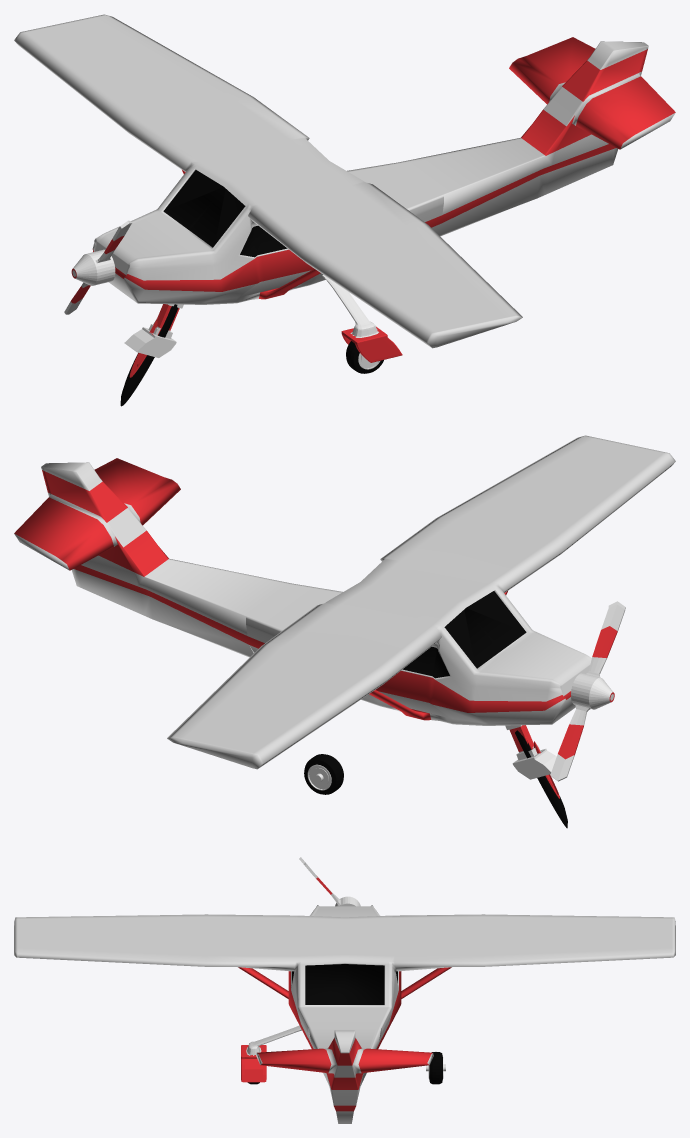
The picture shows the model from 3 angles, top to bottom: view 1: azimuth 30°, elevation 25°; view 2: azimuth 150°, elevation 25°; view 3: azimuth 270°, elevation 25°; orthographic projection. The views are drawn at different scales.
Visible parts, largest first — view 1: Cube, Plane.001, Cylinder, Plane.002, Cylinder.001, Cylinder.002; view 2: Cube, Cylinder, Plane.002, Cylinder.002, Cylinder.001; view 3: Cube, Plane.001, Cylinder.002, Cylinder.
Part boxes in pixels (box(x1,y1,x2,y2)): Cube: box(14, 14, 675, 348); Plane.001: box(322, 275, 402, 362); Cylinder: box(64, 220, 132, 314); Plane.002: box(124, 304, 183, 357); Cylinder.001: box(120, 304, 178, 406); Cylinder.002: box(346, 341, 383, 373); Cube: box(14, 435, 675, 769); Cylinder: box(550, 601, 625, 781); Plane.002: box(505, 725, 556, 779); Cylinder.002: box(304, 754, 343, 794); Cylinder.001: box(515, 730, 567, 828); Cube: box(14, 905, 675, 1123); Plane.001: box(241, 1025, 301, 1082); Cylinder.002: box(247, 1052, 445, 1084); Cylinder: box(299, 857, 360, 906).
Bounding box in the file's own units: 8.74 × 3.55 × 11.
